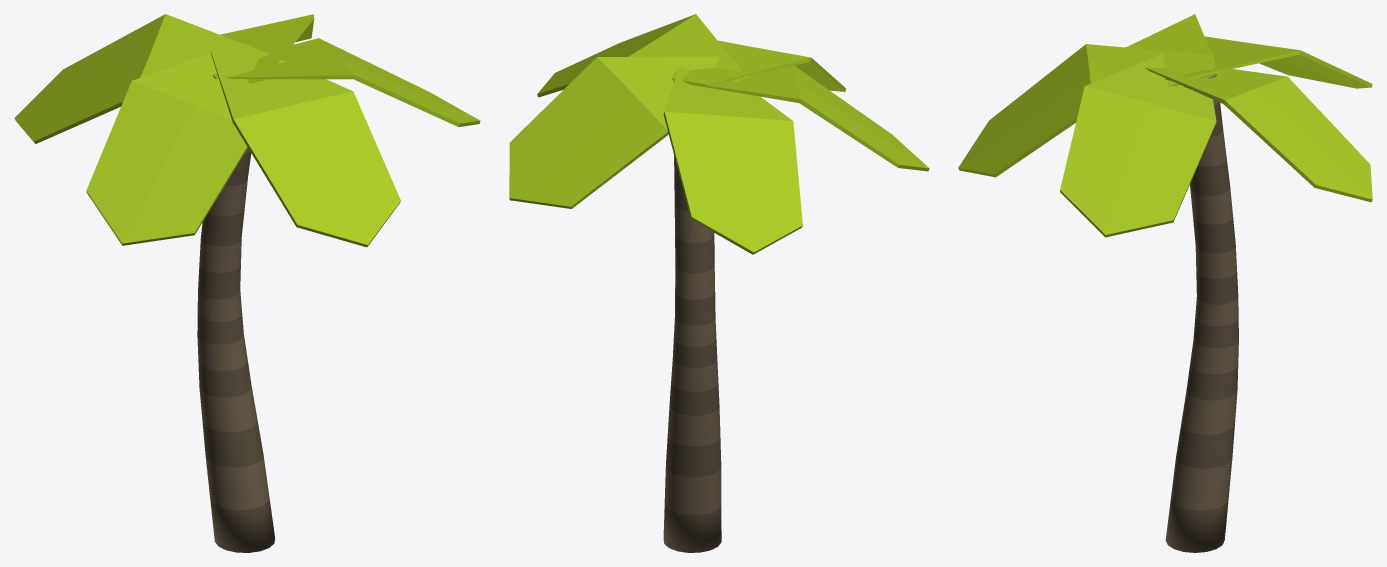
The model's file is palm_tree.glb.
3 renders of one model, left to right at view 1: azimuth 30°, elevation 25°; view 2: azimuth 150°, elevation 25°; view 3: azimuth 270°, elevation 25°, orthographic. The views are drawn at different scales.
Visible parts, largest first — view 1: Leaf, Leaf.001, TreeTrunk, Leaf.002, Leaf.005, Leaf.004; view 2: Leaf.002, Leaf.004, TreeTrunk, Leaf.001, Leaf.005, Leaf; view 3: TreeTrunk, Leaf.005, Leaf.004, Leaf, Leaf.002, Leaf.001.
Boxes of the visible parts, x1,y1,x2,y2 form: Leaf: (210, 43, 400, 247); Leaf.001: (86, 46, 247, 245); TreeTrunk: (197, 148, 275, 552); Leaf.002: (14, 14, 269, 143); Leaf.005: (213, 38, 480, 126); Leaf.004: (220, 14, 314, 82); Leaf.002: (663, 66, 802, 254); Leaf.004: (509, 56, 750, 208); TreeTrunk: (663, 155, 721, 552); Leaf.001: (673, 65, 929, 171); Leaf.005: (537, 14, 747, 97); Leaf: (672, 40, 845, 91); TreeTrunk: (1165, 74, 1238, 552); Leaf.005: (1060, 54, 1216, 237); Leaf.004: (1145, 67, 1372, 202); Leaf: (958, 44, 1215, 177); Leaf.002: (1165, 36, 1372, 88); Leaf.001: (1125, 14, 1219, 87).
Size of the model in its own units: 14.7 by 18.45 by 14.44.
